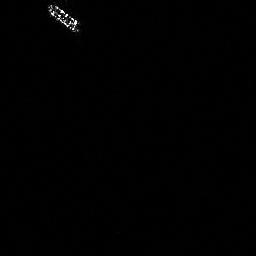ship: (45, 1, 82, 33)
